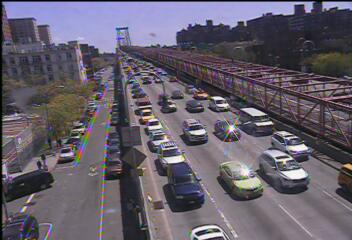neg: (154, 144, 166, 161), (220, 107, 231, 122), (95, 149, 105, 162), (113, 78, 121, 88)
pos: (35, 151, 50, 171), (34, 159, 42, 170)
